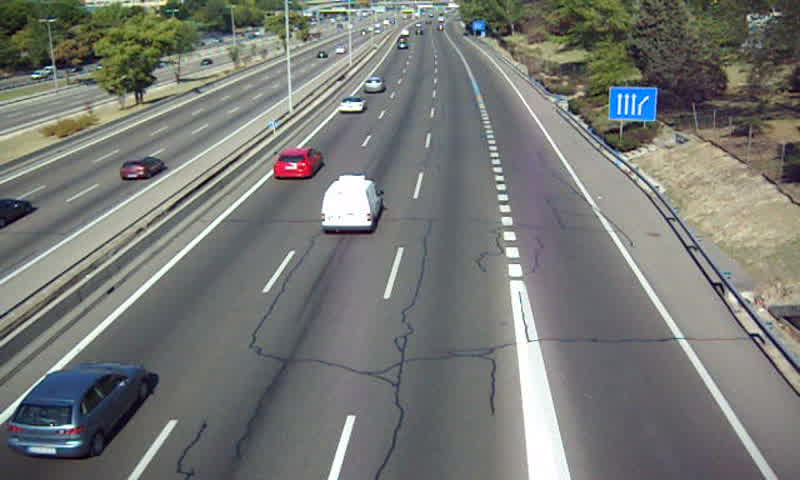car: (8, 362, 150, 457), (273, 148, 321, 179), (339, 97, 369, 113), (362, 75, 384, 93)
van: (321, 175, 384, 232)
